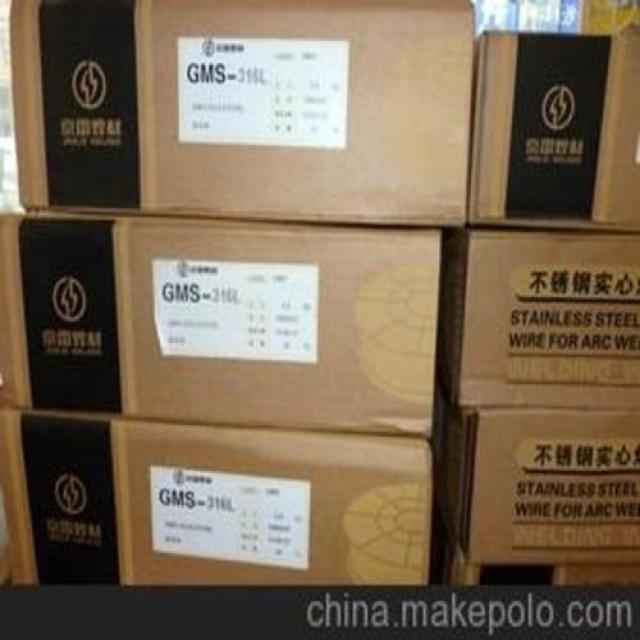box: (0, 198, 443, 439), (9, 0, 475, 225), (0, 391, 433, 585), (431, 372, 640, 561), (434, 224, 640, 410), (467, 32, 640, 234), (429, 490, 640, 587)
